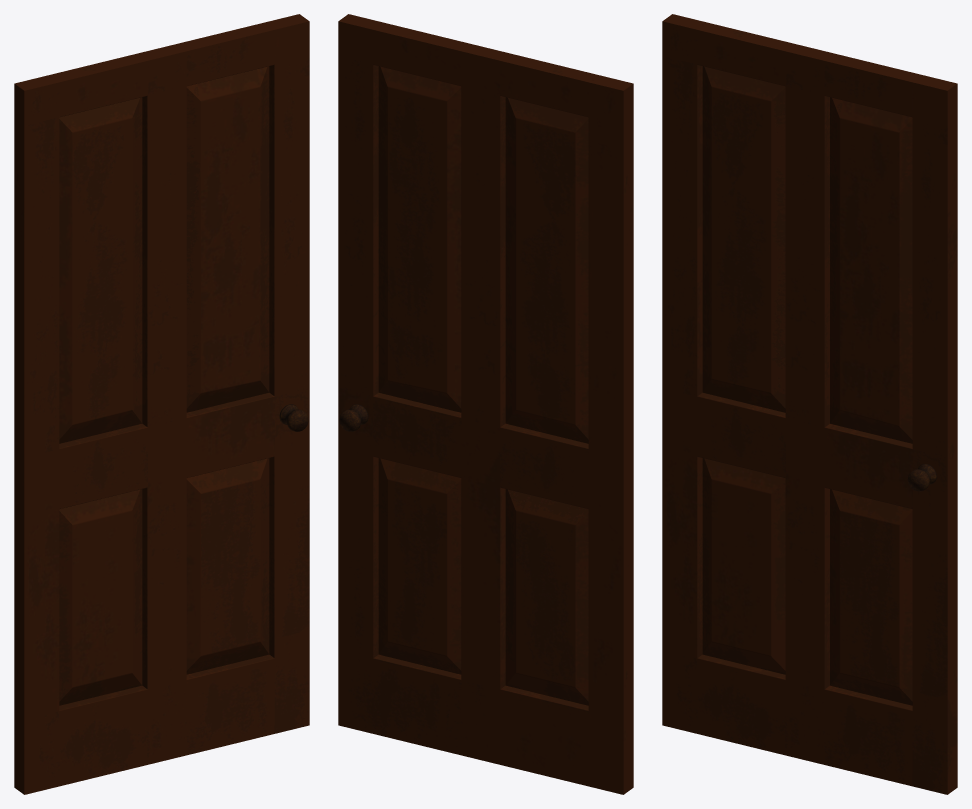
File: _door._old._wood.glb
3 views of the same model, side by side, from view 1: azimuth 30°, elevation 25°; view 2: azimuth 150°, elevation 25°; view 3: azimuth 330°, elevation 25° (orthographic).
Bounding box in the file's own units: 63.77 × 151 × 12.84.
Materials: 4 (4 with a texture image).
